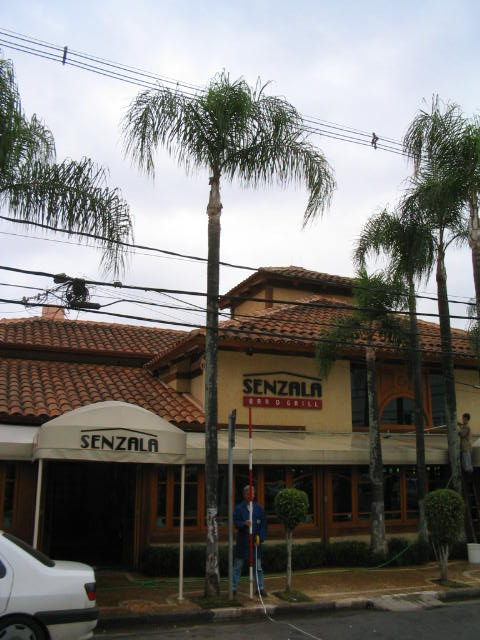crown: (119, 71, 337, 234)
stem: (187, 209, 238, 598)
stick: (241, 405, 261, 601)
tree: (116, 69, 339, 601)
